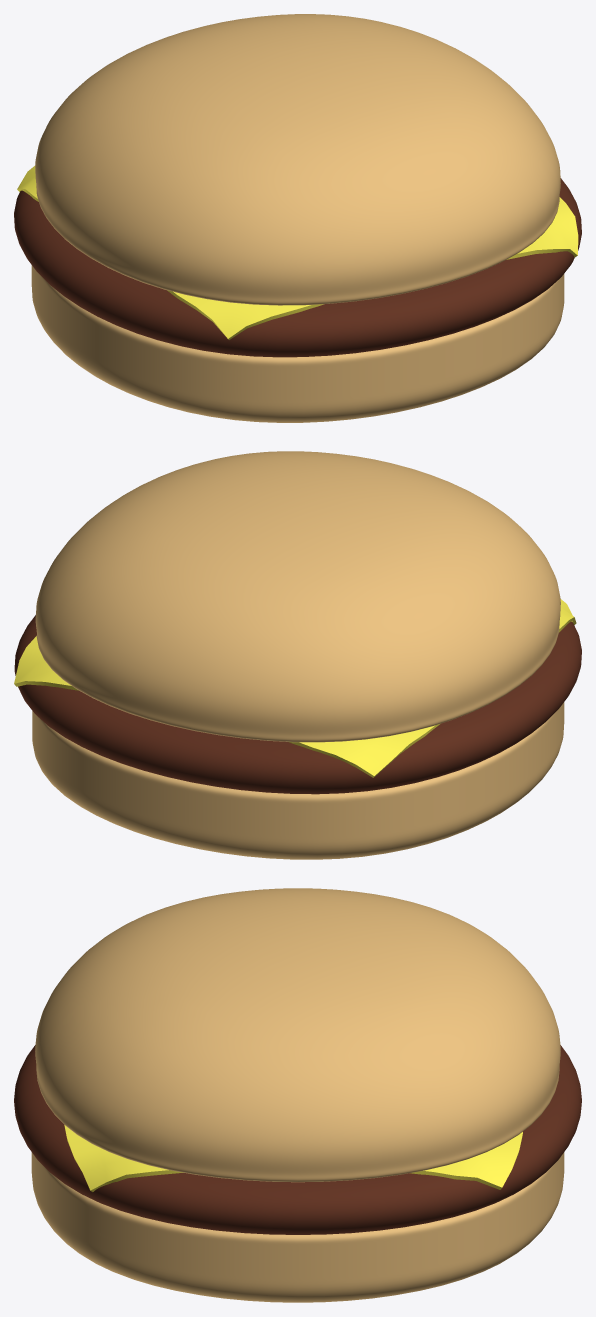
Rendered from hamburger.glb.
3 views of the same model, one above another, from view 1: azimuth 30°, elevation 25°; view 2: azimuth 150°, elevation 25°; view 3: azimuth 270°, elevation 25° (orthographic). The views are drawn at different scales.
Visible parts, largest first — view 1: Cube.002, Cube, Cube.001, Plane; view 2: Cube.002, Cube, Cube.001, Plane; view 3: Cube.002, Cube, Cube.001, Plane.
Boxes of the visible parts, <box> form: Cube.002: <box>35,14,560,305</box>; Cube: <box>31,265,564,422</box>; Cube.001: <box>14,178,581,357</box>; Plane: <box>17,165,578,339</box>; Cube.002: <box>35,451,560,742</box>; Cube: <box>32,702,564,859</box>; Cube.001: <box>14,615,581,794</box>; Plane: <box>14,599,576,777</box>; Cube.002: <box>35,888,560,1182</box>; Cube: <box>31,1152,564,1302</box>; Cube.001: <box>14,1045,581,1234</box>; Plane: <box>64,1125,522,1191</box>.
Size of the model in its own units: 9.78 by 5.35 by 9.78.
